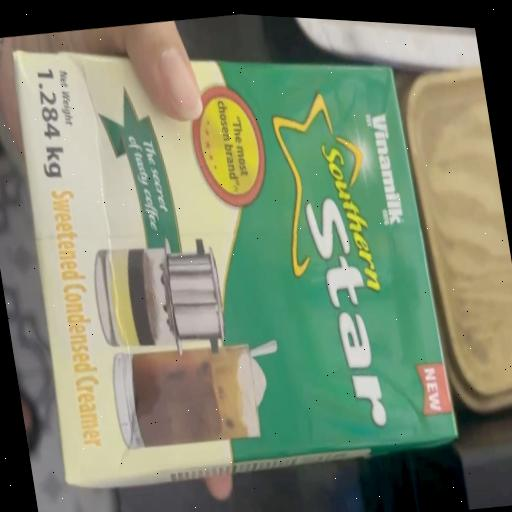ly_giay: (11, 45, 455, 487)
